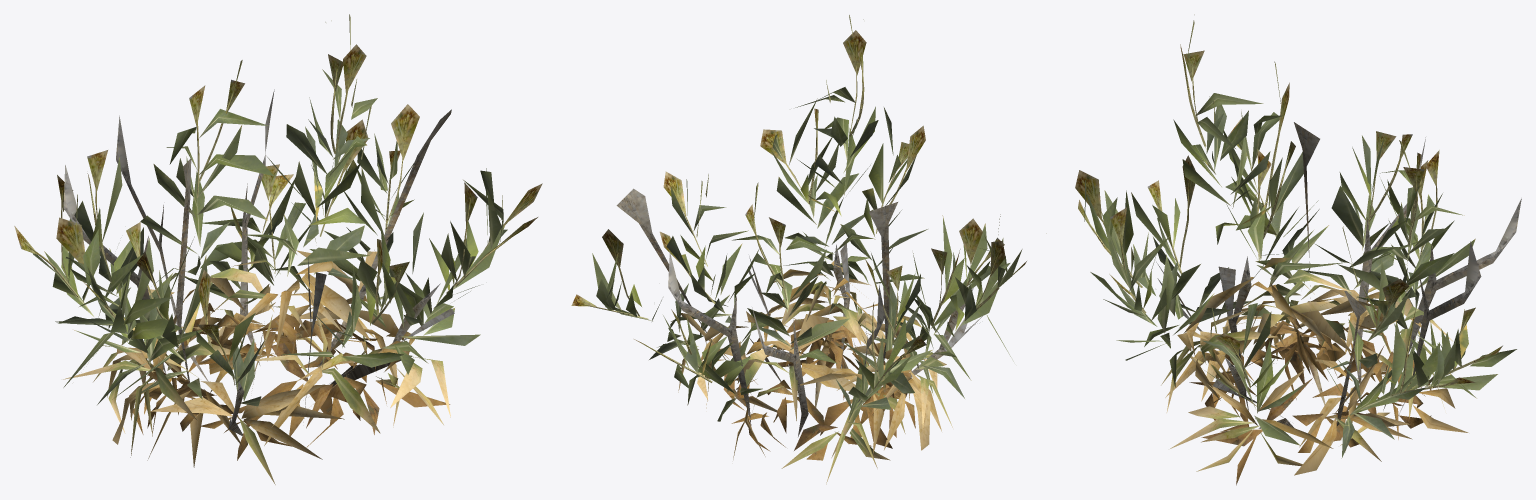
The model's file is plant-2-far.glb.
The picture shows the model from 3 angles, left to right: view 1: azimuth 30°, elevation 25°; view 2: azimuth 150°, elevation 25°; view 3: azimuth 270°, elevation 25°; orthographic projection. The views are drawn at different scales.
Parts seen in each view (by area): view 1: Rhazya stricta; view 2: Rhazya stricta; view 3: Rhazya stricta.
Boxes of the visible parts, x1,y1,x2,y2 form: Rhazya stricta: (14, 14, 542, 484); Rhazya stricta: (571, 15, 1046, 484); Rhazya stricta: (1075, 14, 1521, 485).
Size of the model in its own units: 0.7605 by 0.7131 by 0.6842.
1 material, 1 textured.
